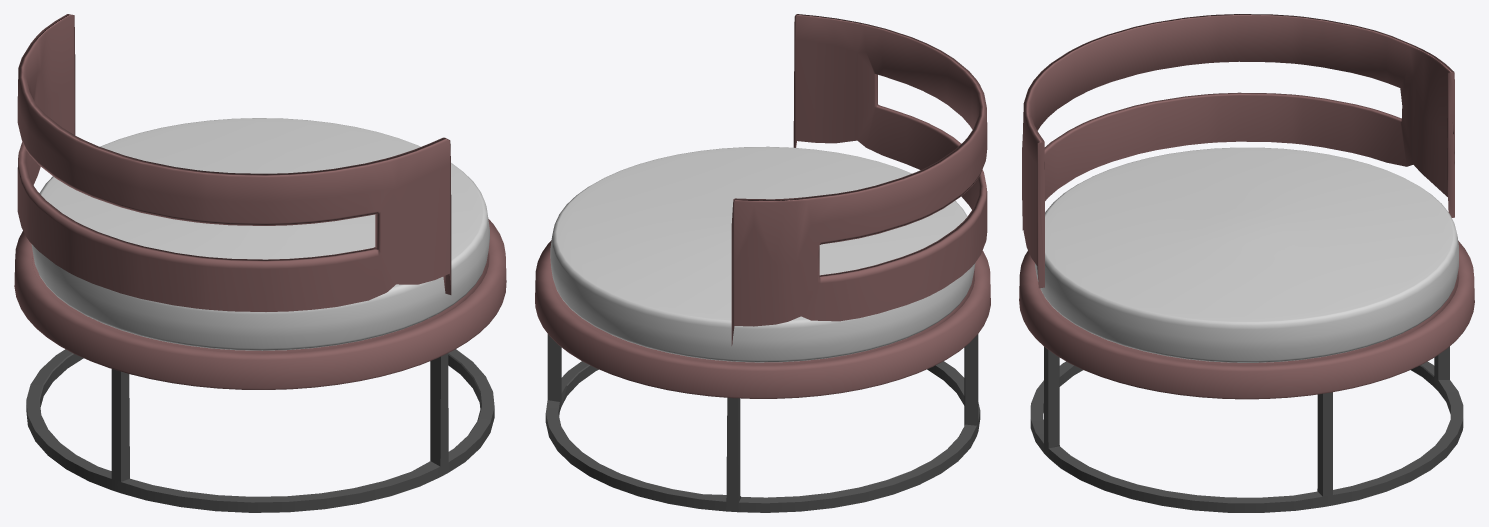
File: roundChair.fbx
The picture shows the model from 3 angles, left to right: view 1: azimuth 30°, elevation 25°; view 2: azimuth 150°, elevation 25°; view 3: azimuth 270°, elevation 25°; orthographic projection. The views are drawn at different scales.
Visible parts, largest first — view 1: polySurface1; view 2: polySurface1; view 3: polySurface1.
Boxes of the visible parts, x1,y1,x2,y2 form: polySurface1: (14, 14, 506, 512); polySurface1: (535, 14, 990, 512); polySurface1: (1019, 14, 1474, 512).
Bounding box in the file's own units: 16.28 × 12.36 × 16.28.
